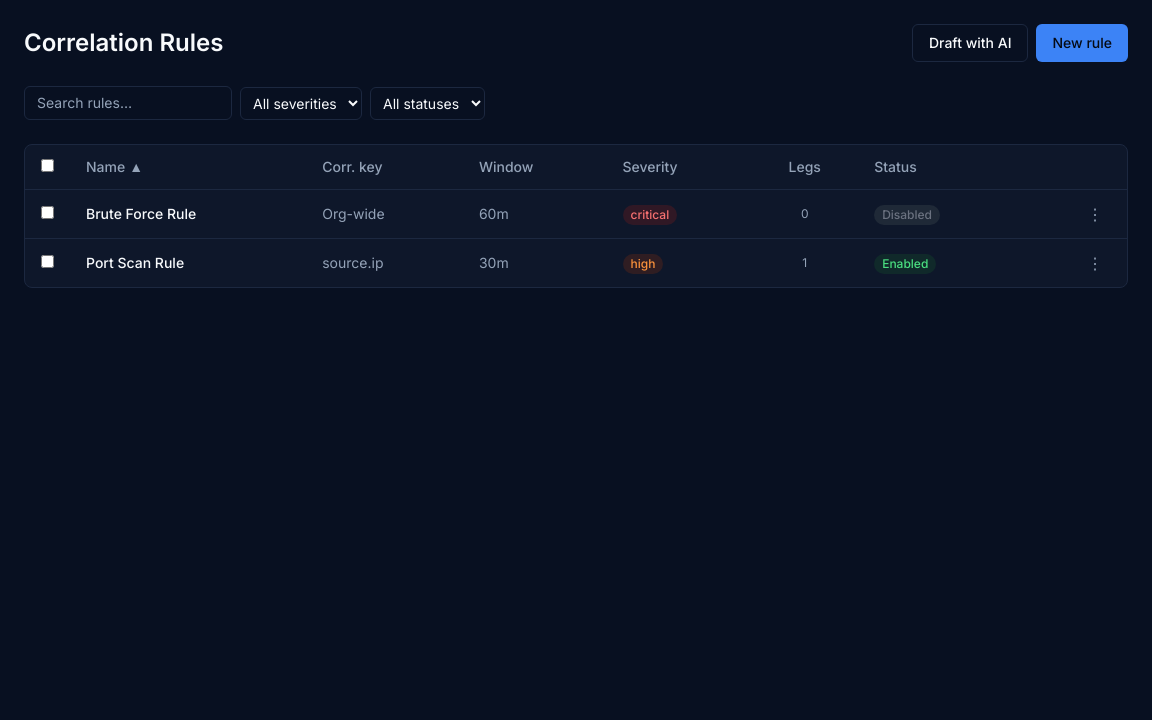
Scenario: CorrelationRulesAdmin › leg builder adds and removes conditions
This screenshot has width=1152, height=720.
Expected: the heading "Correlation Rules" is shown, top-left (24, 27), bottom-right (223, 59)
Click the button "New rule" at (1082, 43), box top-left (1036, 24), bottom-right (1128, 62)
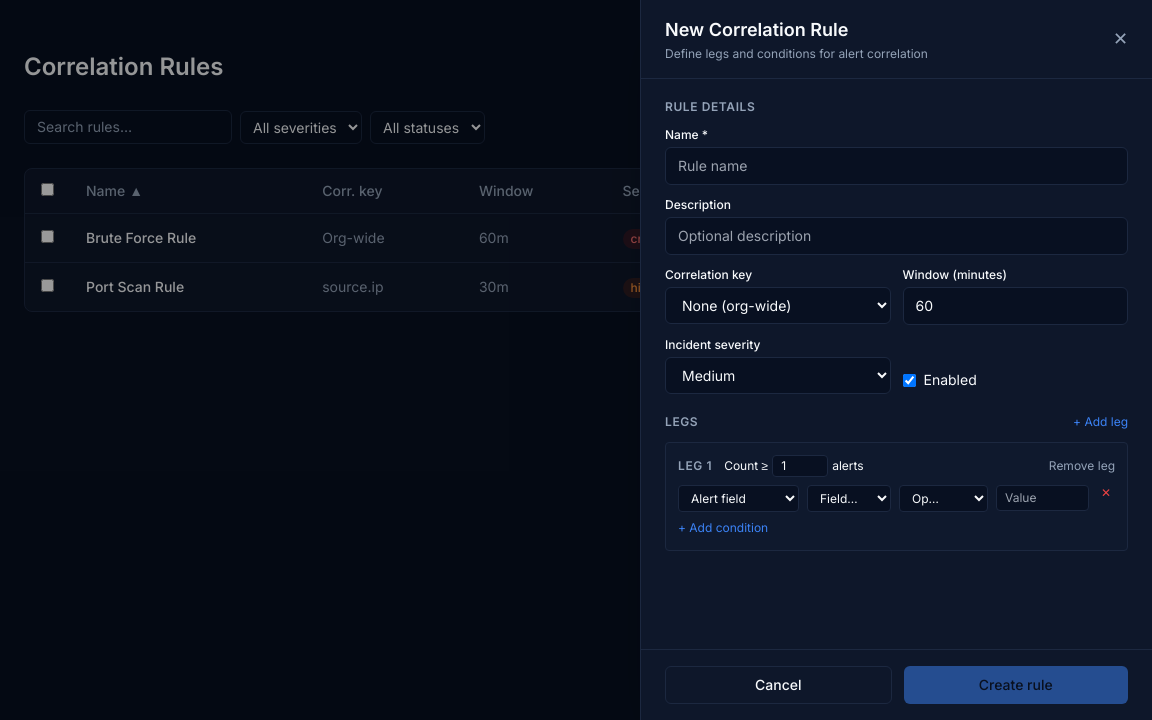
Now the text "Leg 1" is shown, box top-left (678, 458), bottom-right (712, 474)
Click the button "+ Add condition" at (723, 528), box top-left (678, 520), bottom-right (768, 536)
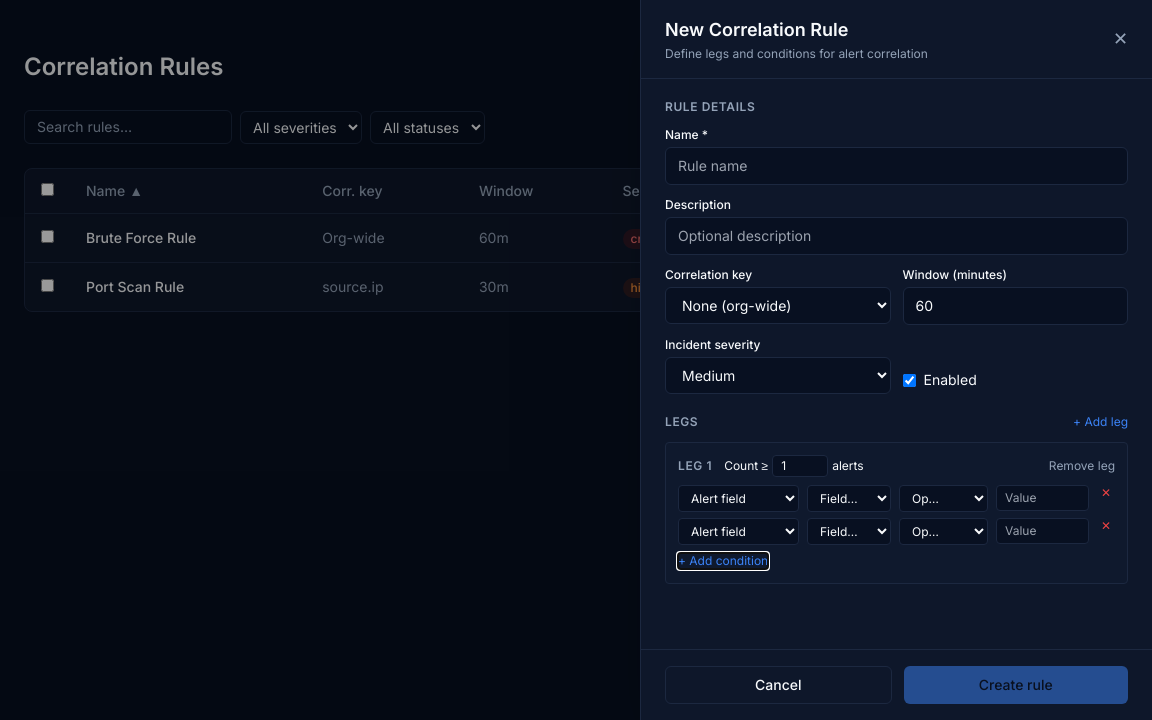
Now the number of dropdowns named "Field kind" is 2, box top-left (678, 485), bottom-right (799, 512); top-left (678, 518), bottom-right (799, 545)
Click the button named "Remove condition" at (1106, 493), box top-left (1097, 485), bottom-right (1115, 501)
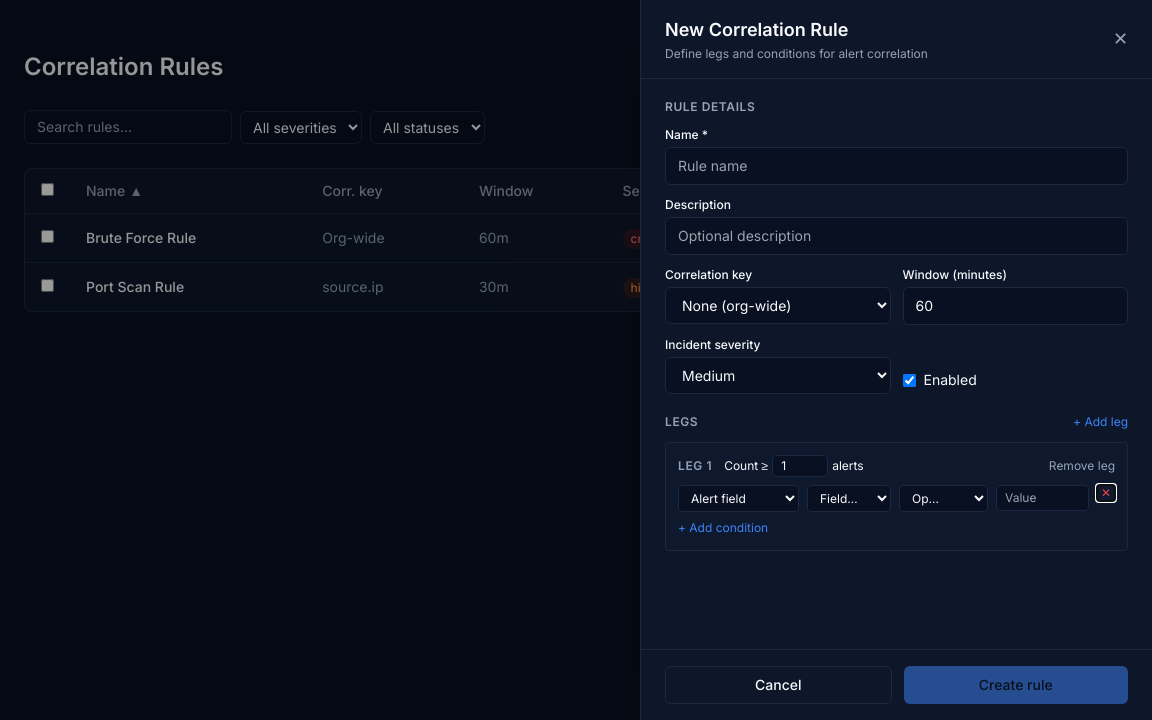
Now the number of dropdowns named "Field kind" is 1, box top-left (678, 485), bottom-right (799, 512)
